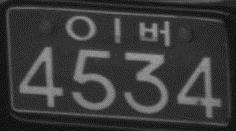0: (65, 14, 97, 42)
1: (104, 17, 131, 44)
3: (122, 52, 169, 114)
4: (18, 45, 64, 108), (176, 56, 221, 118)
5: (70, 48, 116, 110)
버: (137, 19, 171, 48)
